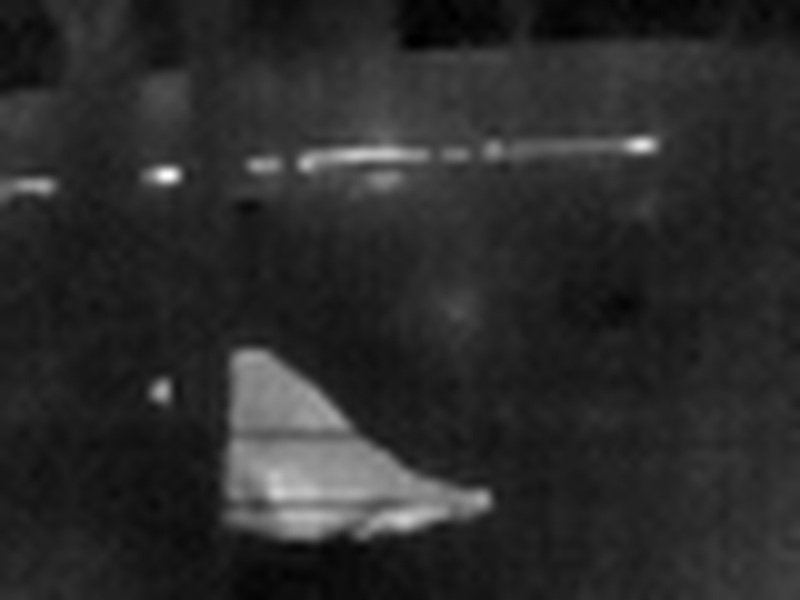elephant: (150, 329, 492, 544)
